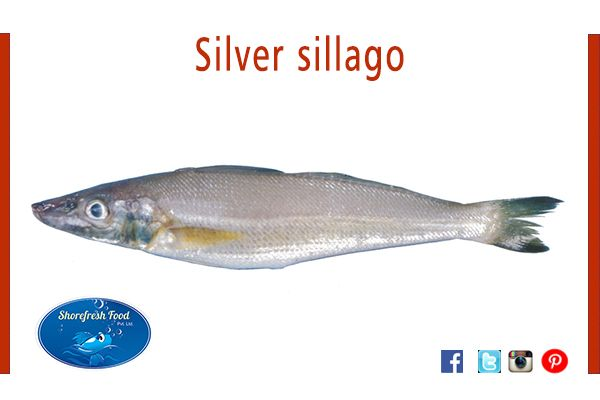kiss: (27, 158, 567, 280)
